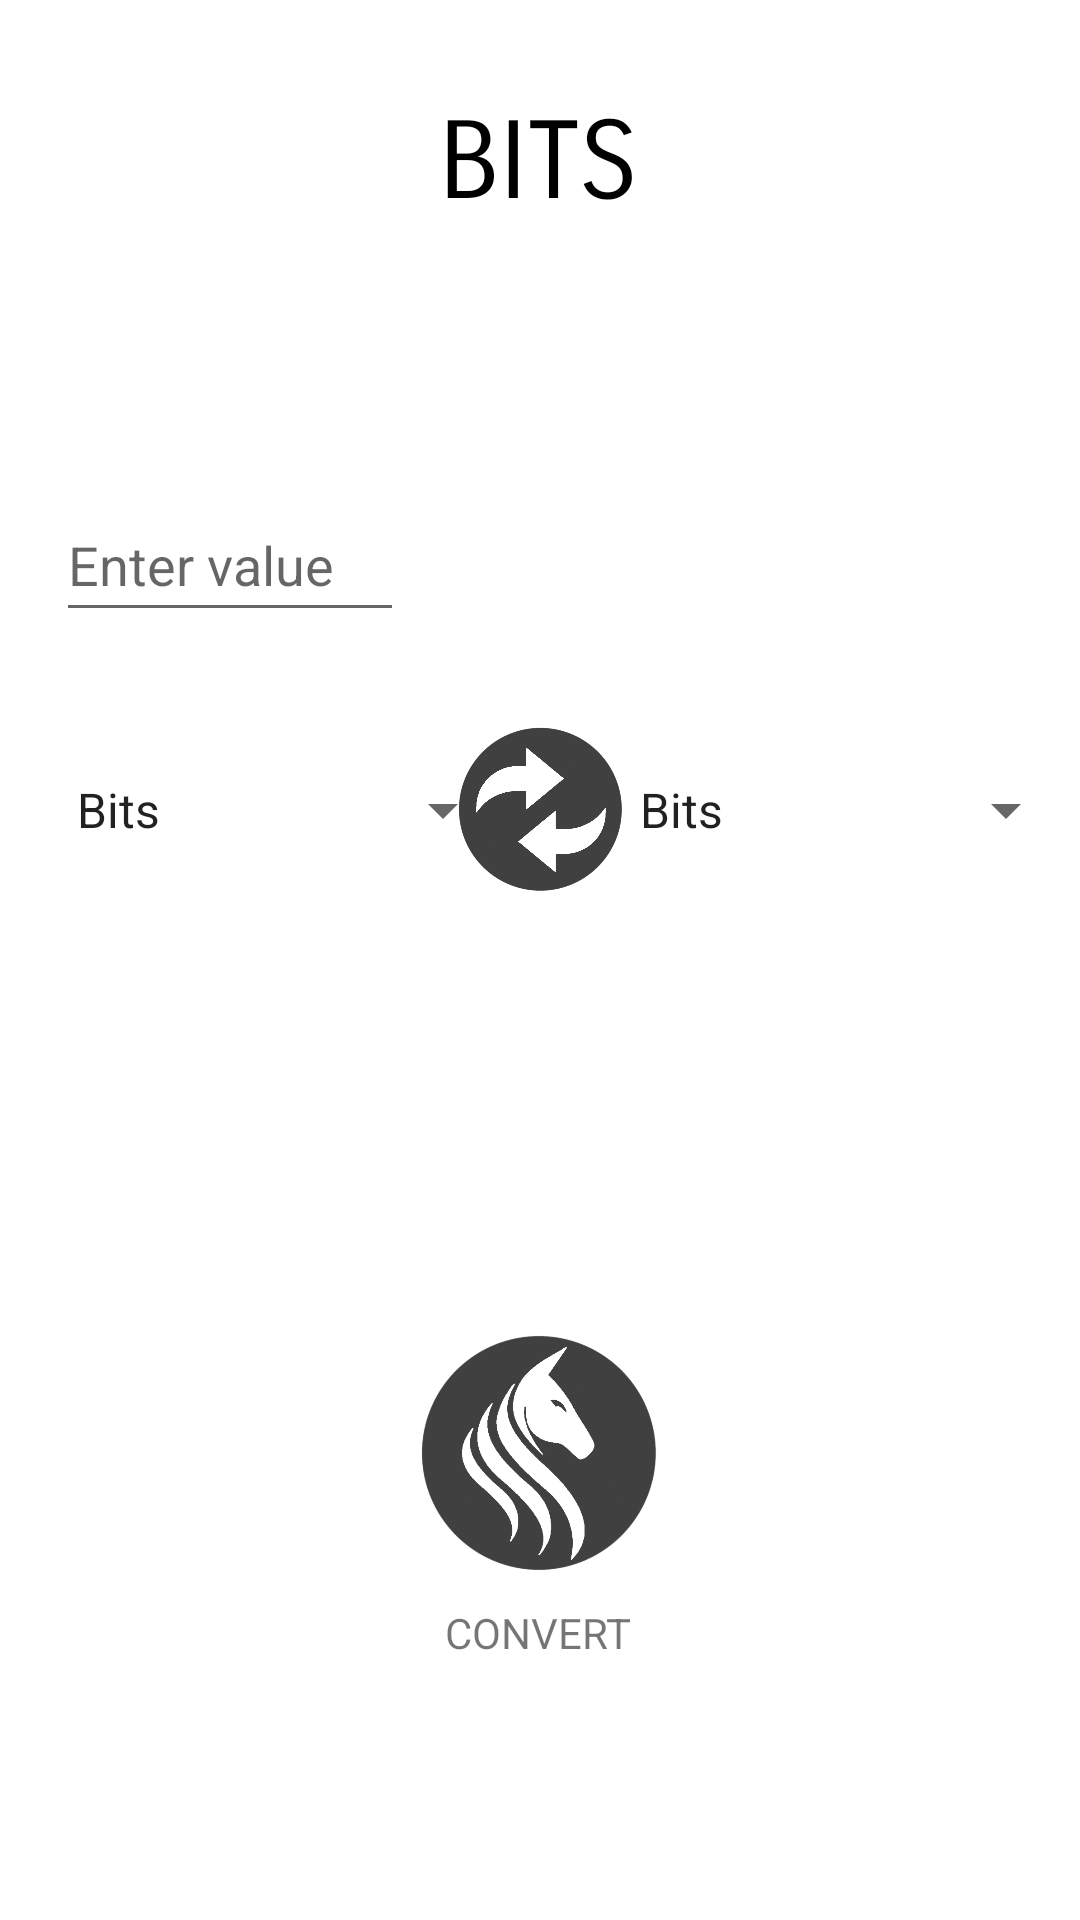

Icons on this 1080x1920 Android screen, each with its box as (x1, y1, x2, y2):
swap: (459, 728, 622, 891)
